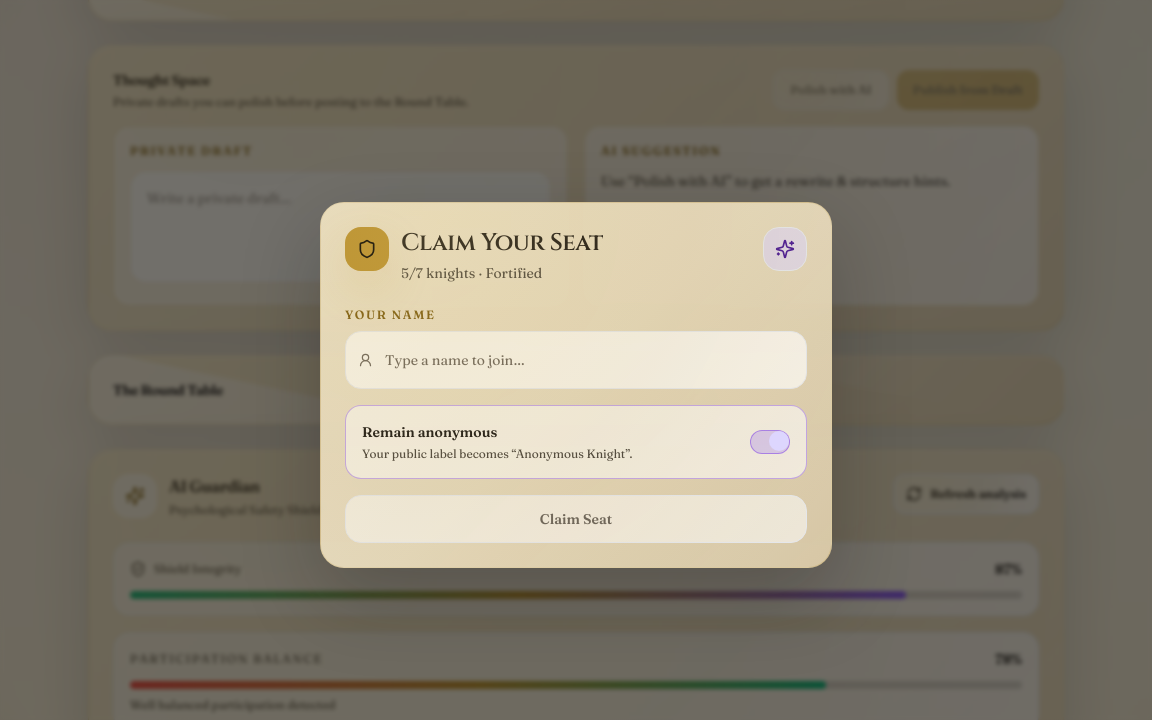
Test case: thought space can apply AI rewrite back into the private draft
(page scrolled)
expect the heading "Claim Your Seat" is shown: met, box [401,227,603,259]
Type "Alice" into the field labelled "YOUR NAME".
click(590, 360); type("Alice")  # box [385,340,794,380]
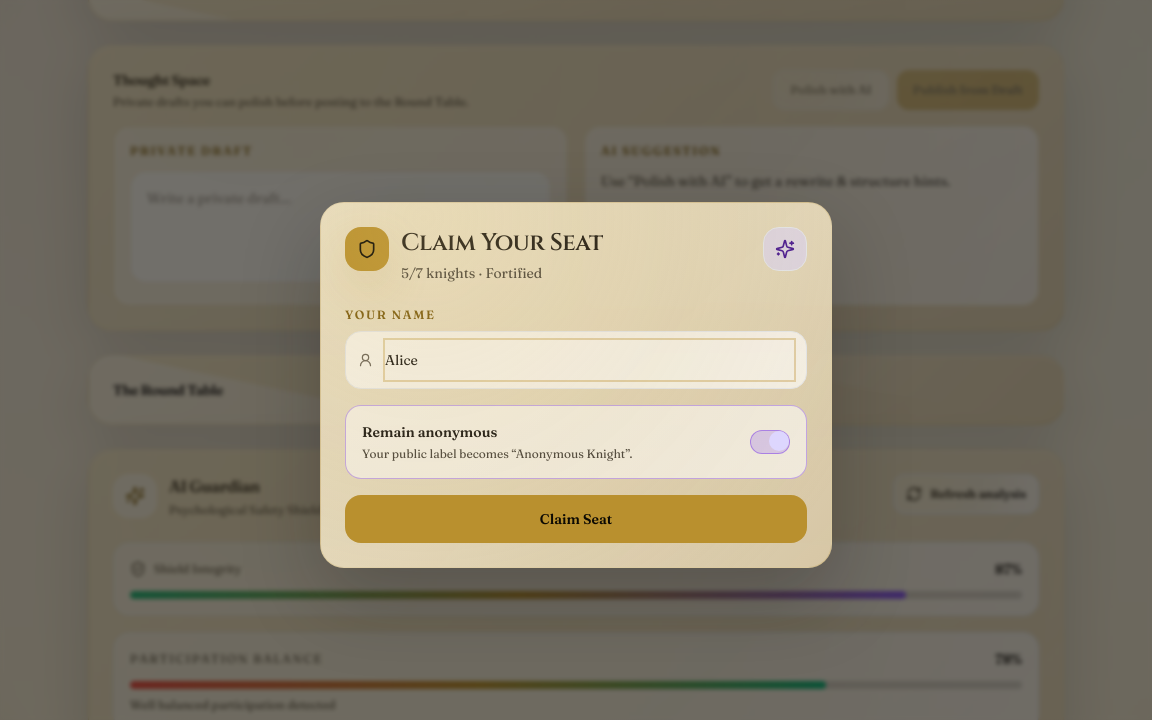
Click the button "Claim Seat".
click(576, 519)  # box [345,495,807,543]
(page scrolled)
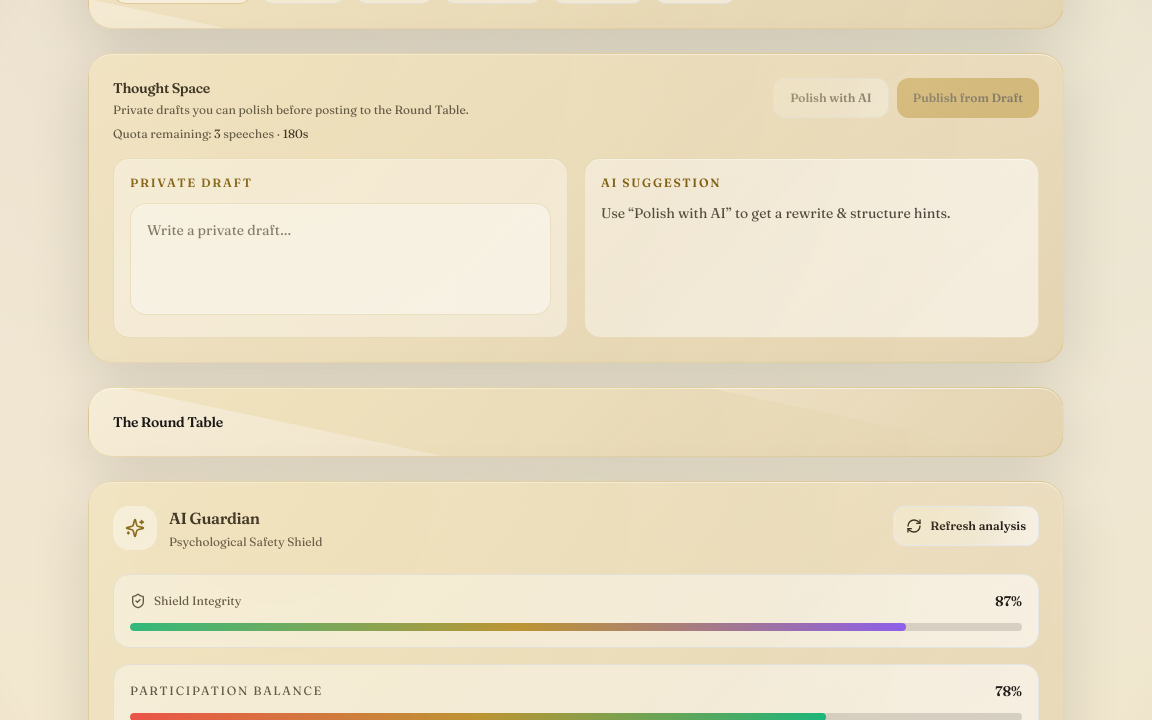
Type "I think this is good" into the text box labelled "Write a private draft…".
click(340, 259); type("I think this is good")  # box [130,203,551,315]
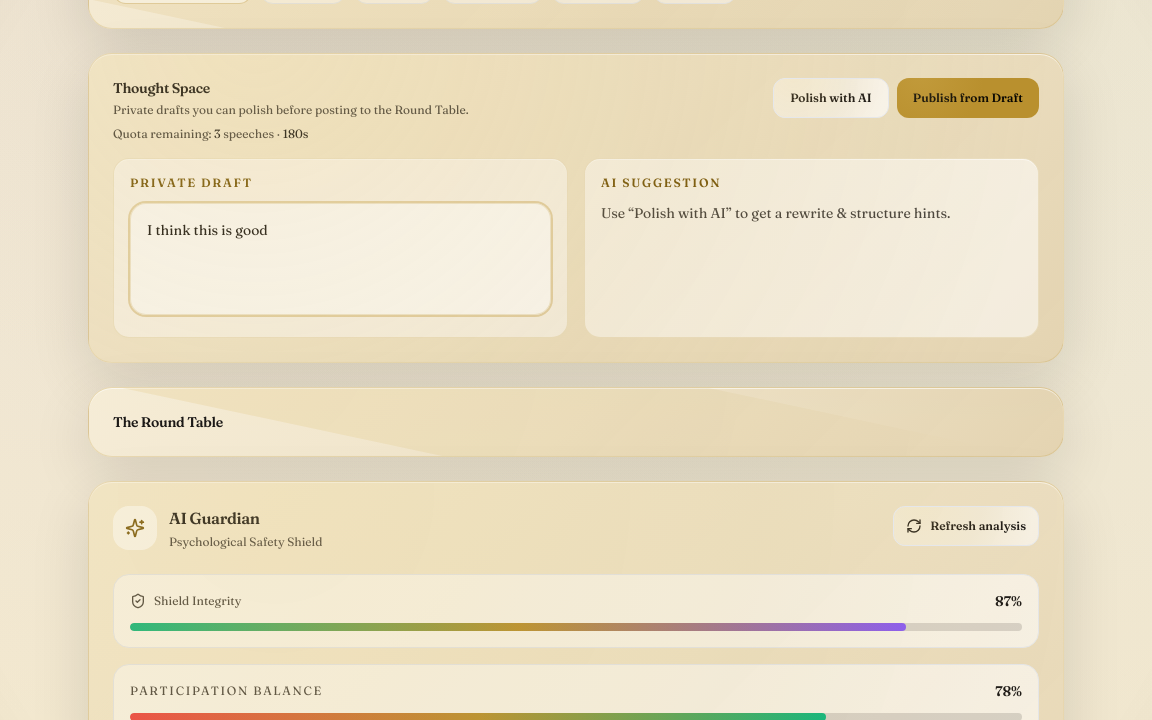
Click the button "Polish with AI".
click(831, 98)  # box [773,78,889,118]
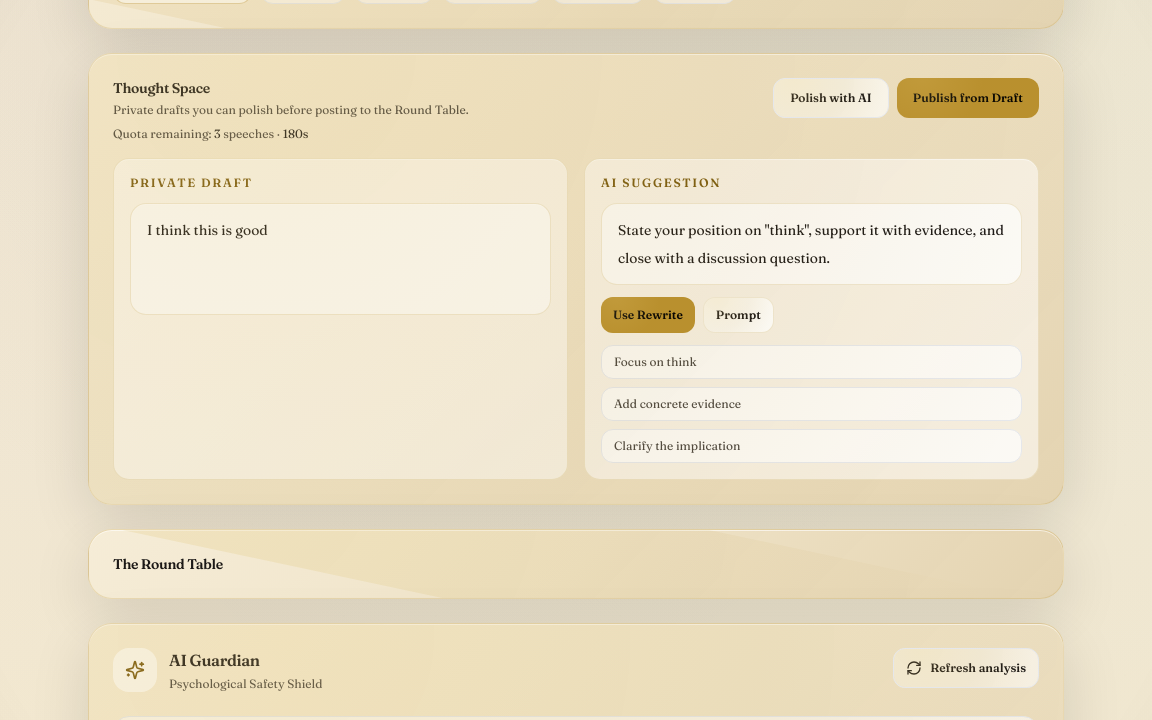
expect the text "AI SUGGESTION" is shown: met, box [601,175,721,190]
Click the button "Use Rewrite".
click(648, 315)  # box [601,297,695,333]
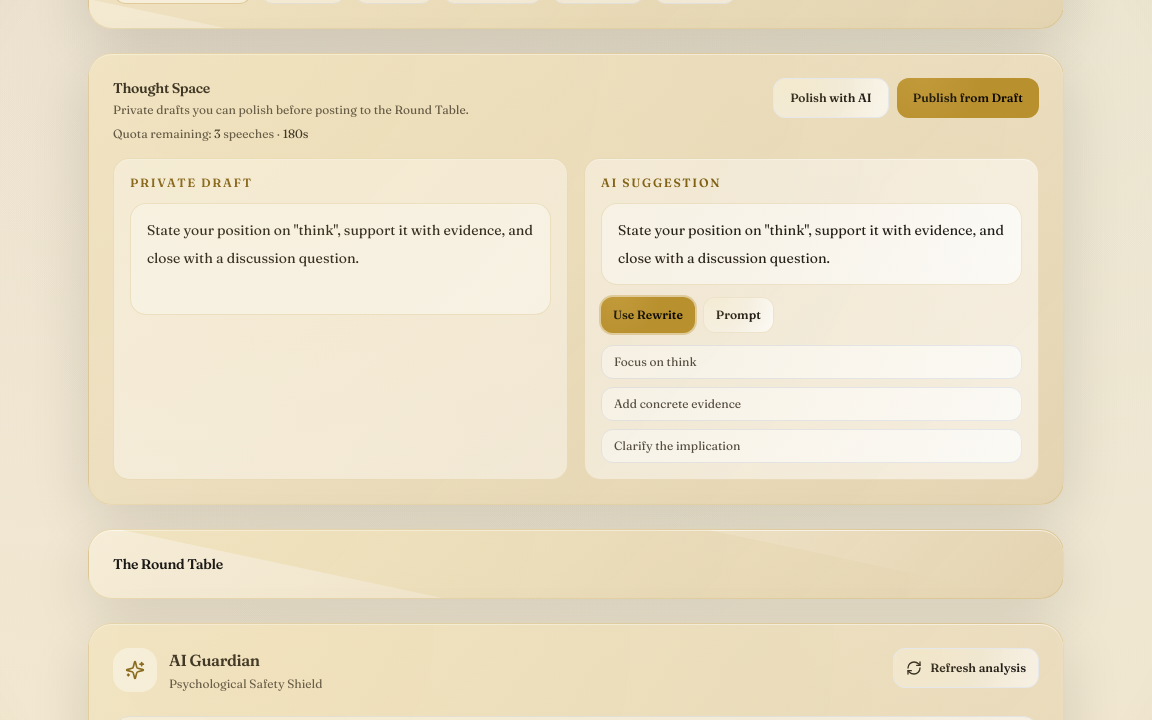
expect the text box named "private draft" does not hold "I think this is good": met, box [130,203,551,315]
